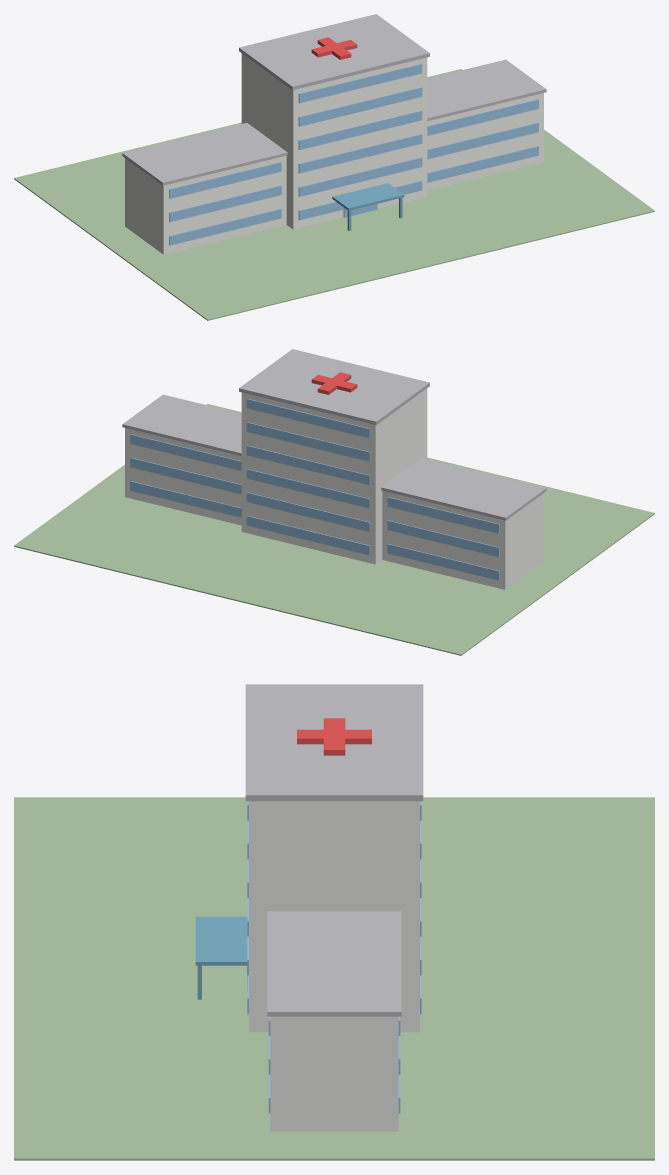
File: hospital.glb
3 views of the same model, one above another, from view 1: azimuth 30°, elevation 25°; view 2: azimuth 150°, elevation 25°; view 3: azimuth 270°, elevation 25° (orthographic). The views are drawn at different scales.
Visible parts, largest first — view 1: Hospital; view 2: Hospital; view 3: Hospital.
Boxes of the visible parts, bbox=[...] form: Hospital: bbox=[14, 14, 654, 320]; Hospital: bbox=[14, 349, 654, 655]; Hospital: bbox=[14, 684, 654, 1160].
Size of the model in its own units: 80 by 25.4 by 60.
